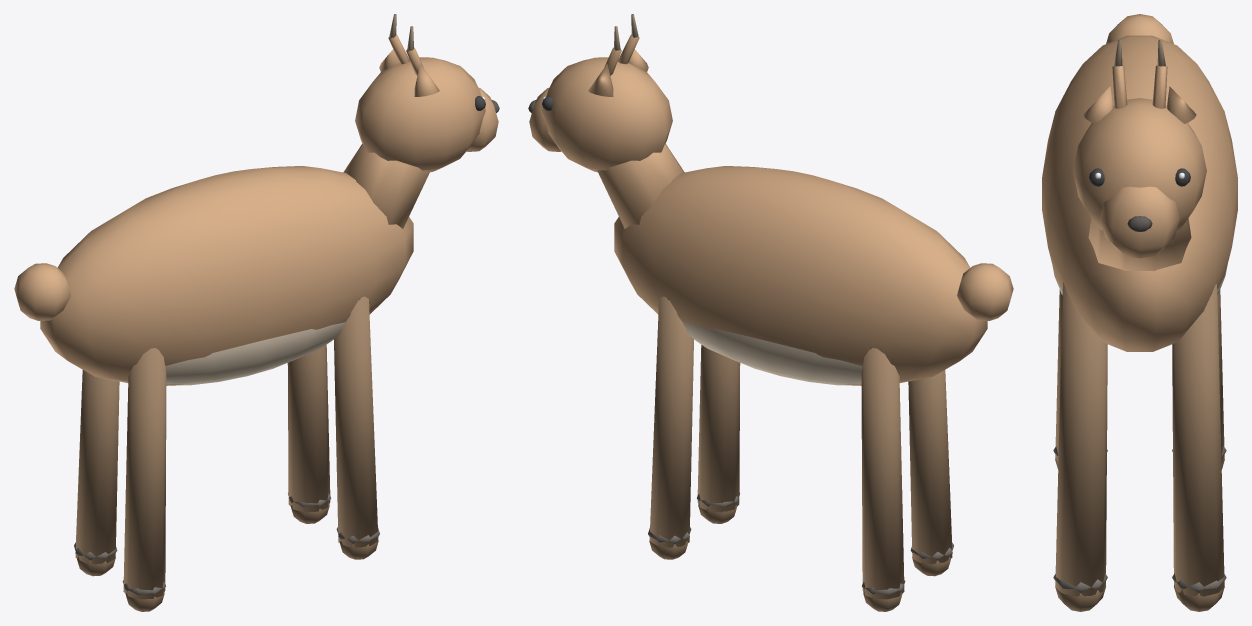
The model's file is formosan-reeves-muntjac.glb.
The picture shows the model from 3 angles, left to right: view 1: azimuth 30°, elevation 25°; view 2: azimuth 150°, elevation 25°; view 3: azimuth 270°, elevation 25°; orthographic projection. The views are drawn at different scales.
Parts seen in each view (by area): view 1: e, cone, e.008, e.002, e.011, e.005, e.023; view 2: e, cone, e.011, e.005, e.008, e.002, e.023; view 3: e, cone, e.005, e.002, e.023, e.008, e.011.
Part boxes in pixels (x1,y1,x2,y2): e: (40,143,430,385); cone: (355,14,499,172); e.008: (122,347,166,611); e.002: (334,296,379,559); e.011: (74,370,119,576); e.005: (287,345,331,523); e.023: (14,263,70,320); e: (597,143,987,385); cone: (528,14,672,172); e.011: (861,347,905,611); e.005: (648,296,693,559); e.008: (908,370,953,576); e.002: (696,345,740,523); e.023: (957,263,1013,320); e: (1042,35,1237,351); cone: (1073,40,1206,258); e.005: (1172,282,1226,611); e.002: (1053,282,1107,611); e.023: (1106,14,1173,43); e.008: (1053,290,1107,469); e.011: (1172,290,1226,469).
Bounding box in the file's own units: 0.8858 × 0.8856 × 0.2573.
